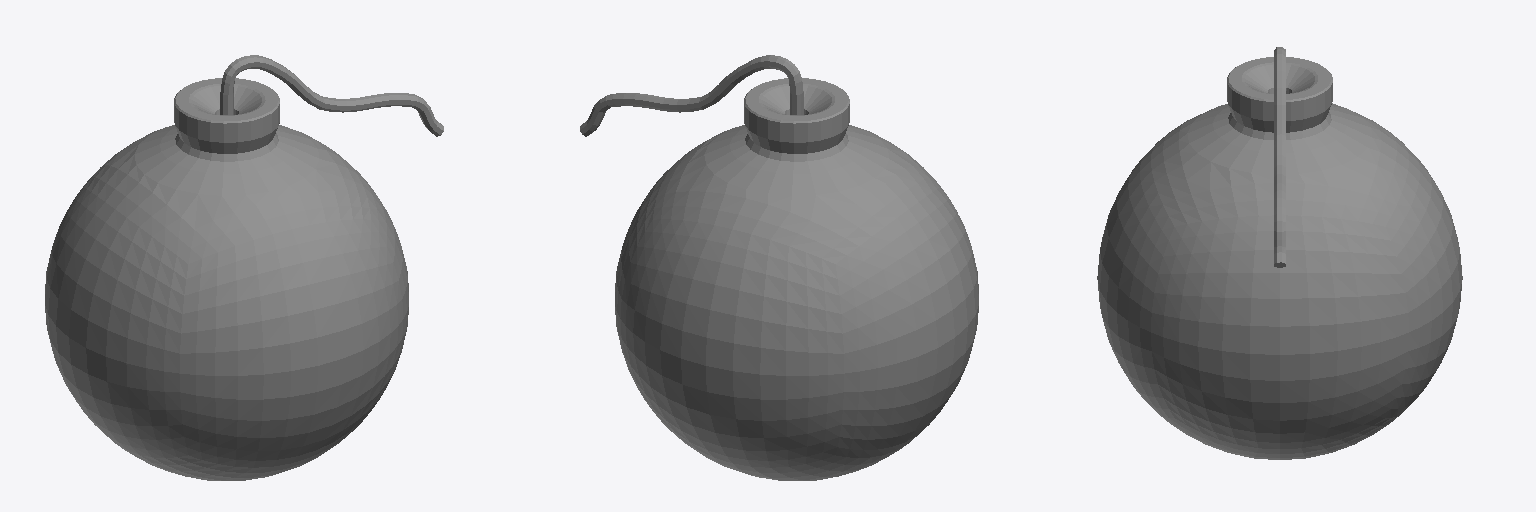
File: Bomb.obj
3 views of the same model, side by side, from view 1: azimuth 30°, elevation 25°; view 2: azimuth 150°, elevation 25°; view 3: azimuth 270°, elevation 25° (orthographic).
Parts seen in each view (by area): view 1: Bomb; view 2: Bomb; view 3: Bomb.
Boxes of the visible parts, <box> form: Bomb: <box>45,55,443,480</box>; Bomb: <box>580,55,978,480</box>; Bomb: <box>1097,47,1462,459</box>.
Bounding box in the file's own units: 5.22 × 5.37 × 4.41.